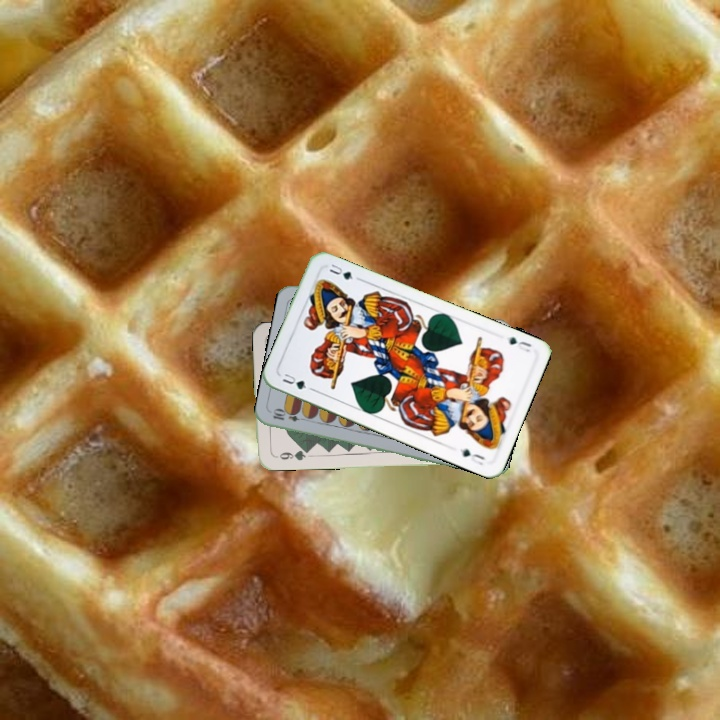E10: (269, 407, 309, 425)
G9: (270, 445, 310, 463)
GU: (278, 369, 315, 393), (505, 333, 534, 355)
